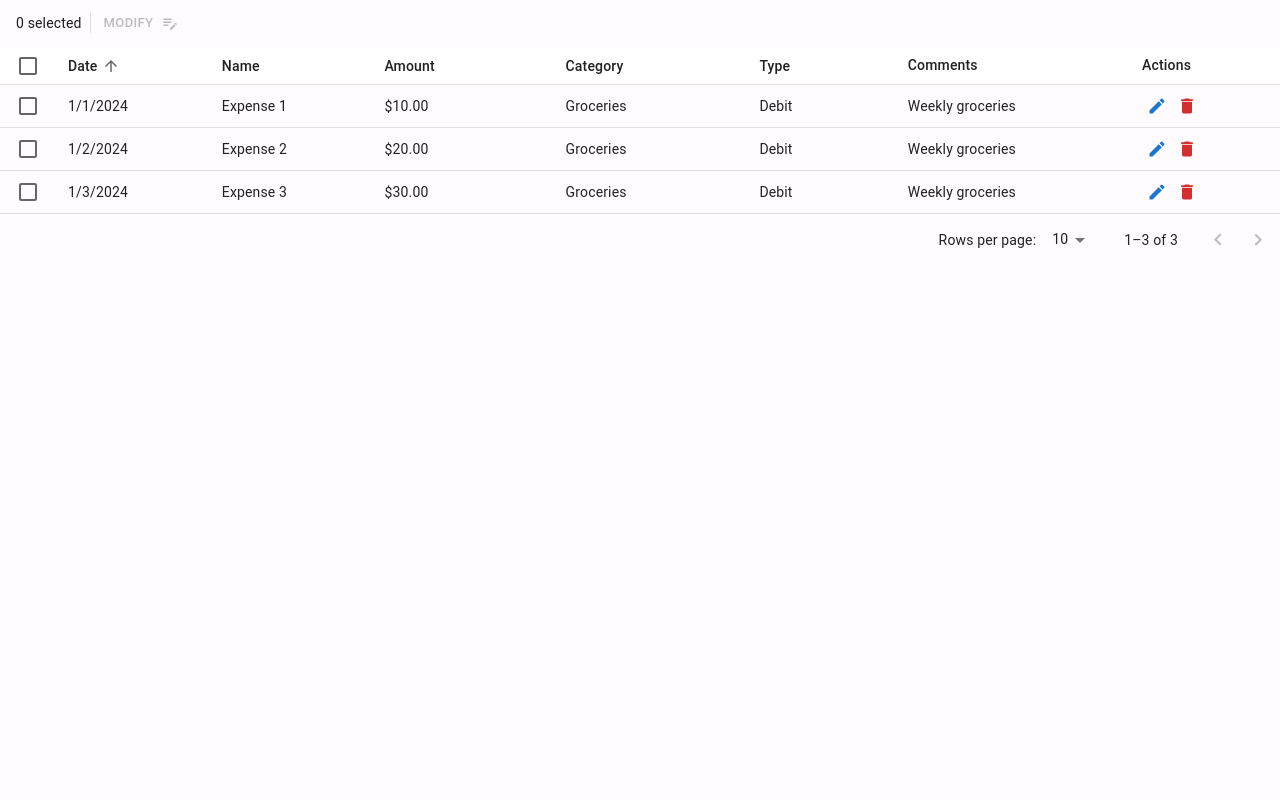
Test: ImportReviewTable › partial selection consistency › should clear selection after bulk operation
Click the checkbox named "Select Expense 1": coordinates (28, 106) [16, 94, 40, 118]
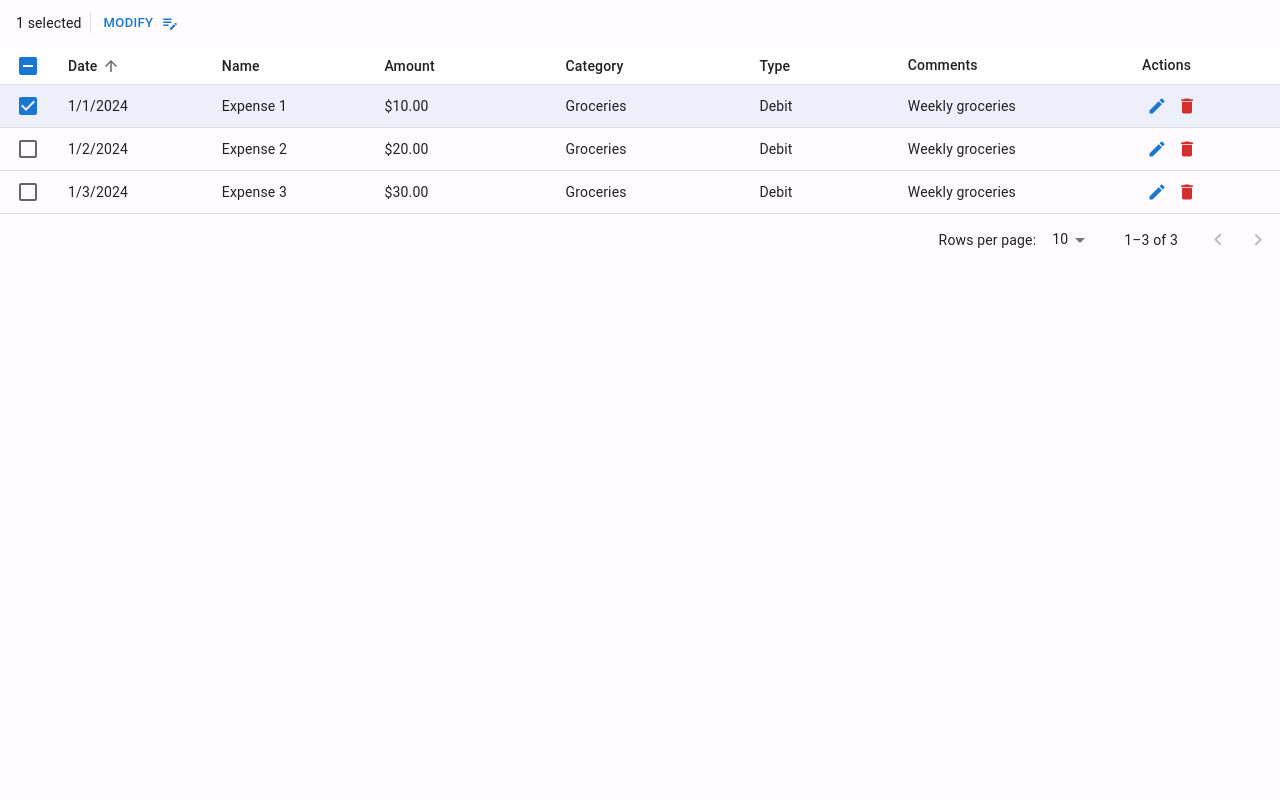
Click the button "Modify": coordinates (140, 23) [99, 8, 182, 39]
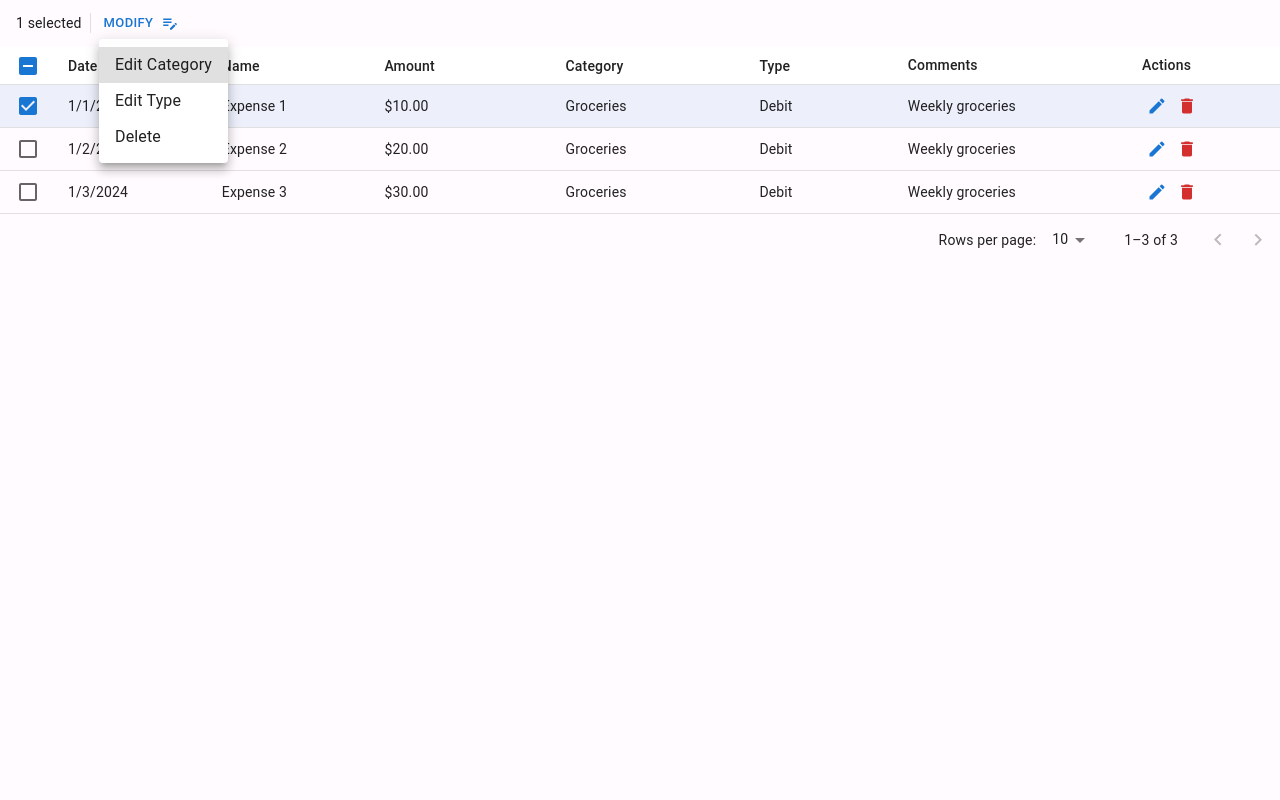
Click the menu item "Delete": coordinates (138, 136) [115, 127, 161, 146]
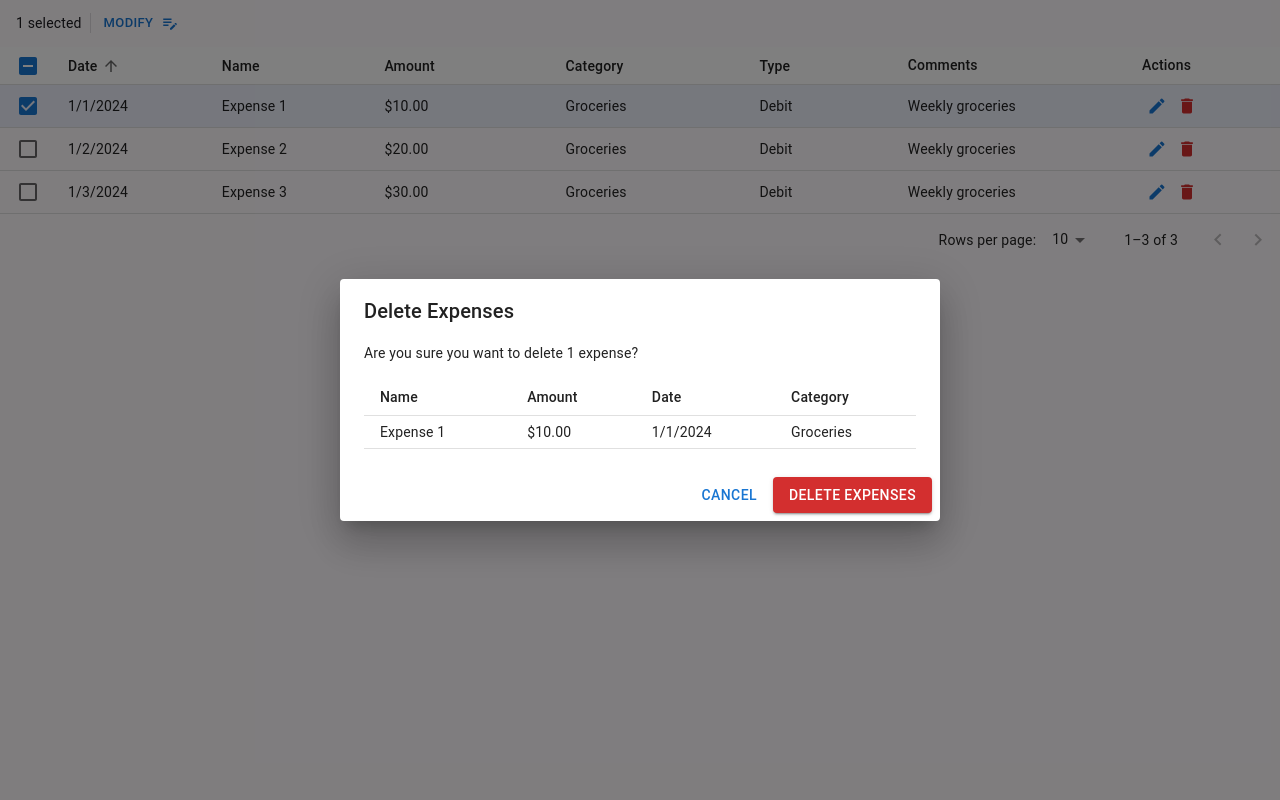
Click the button "Delete Expenses": coordinates (852, 495) [773, 477, 932, 513]
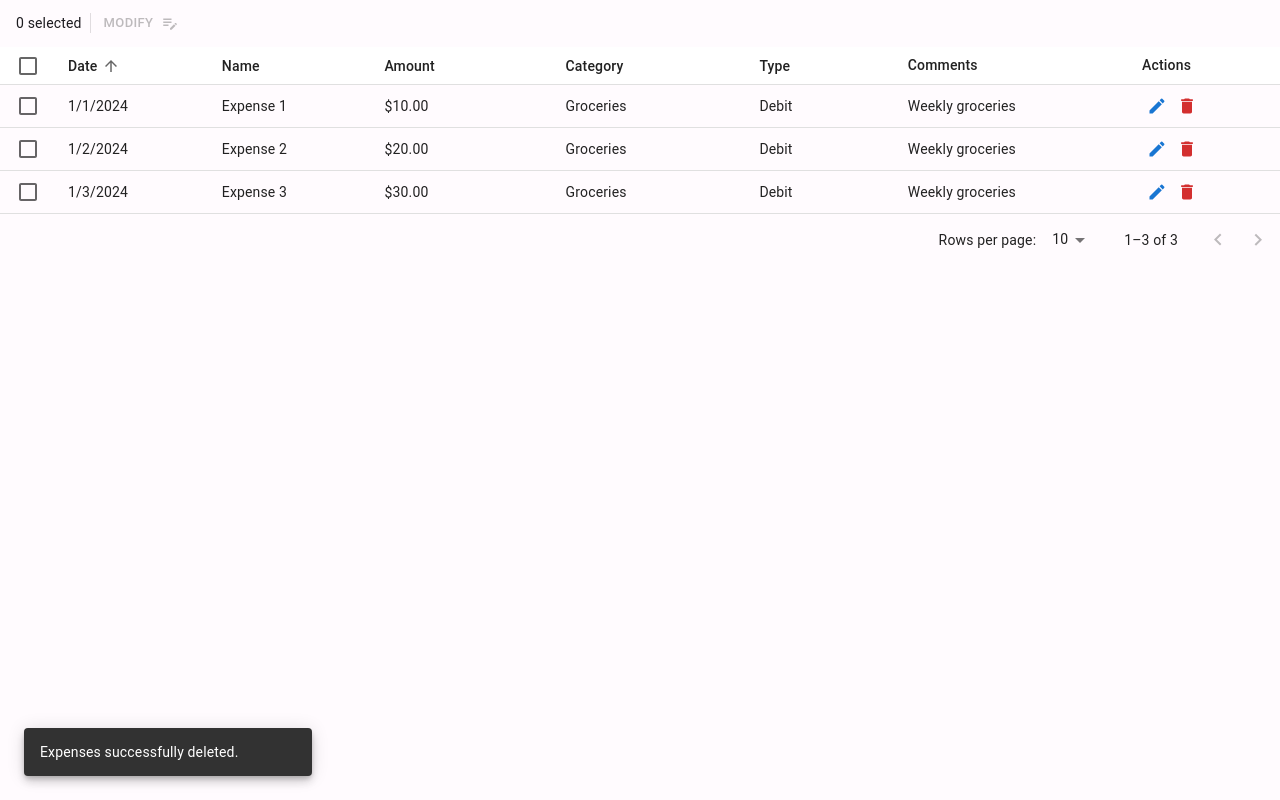
Now the text "0 selected" is shown, box [16, 13, 91, 33]
